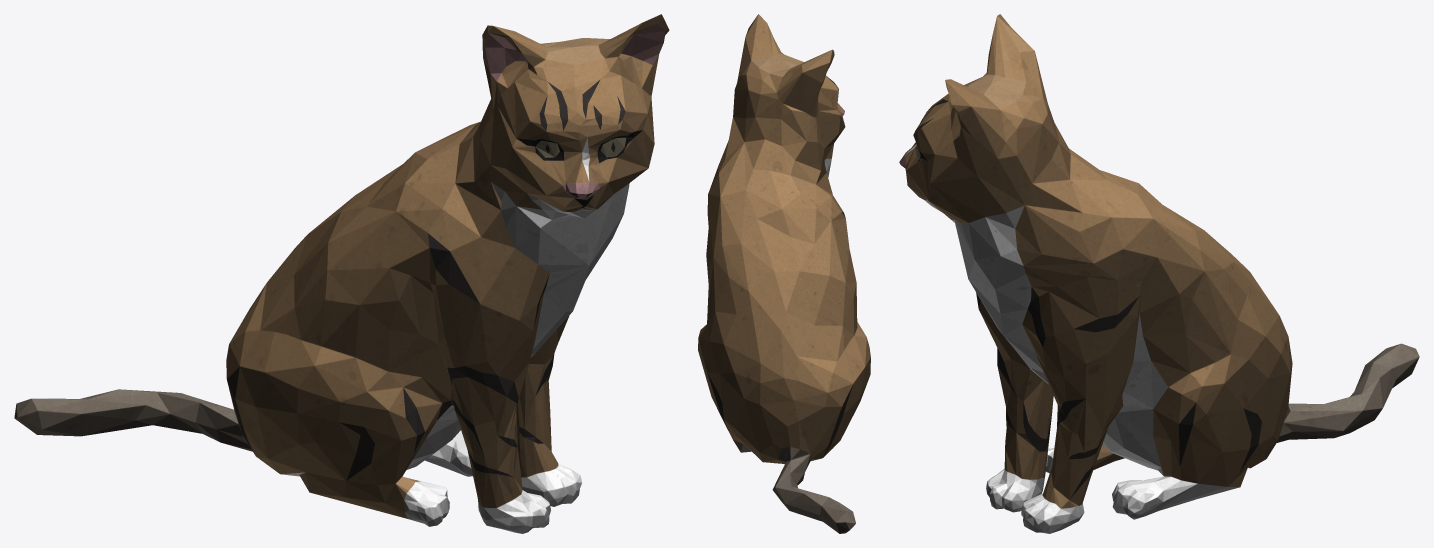
File: Cat - low poly.glb
3 renders of one model, left to right at view 1: azimuth 30°, elevation 25°; view 2: azimuth 150°, elevation 25°; view 3: azimuth 270°, elevation 25°, orthographic. The views are drawn at different scales.
Visible parts, largest first — view 1: cat.1; view 2: cat.1; view 3: cat.1.
Boxes of the visible parts, left/top/right/bottom form: cat.1: left=14, top=14, right=669, bottom=533; cat.1: left=698, top=14, right=870, bottom=533; cat.1: left=899, top=14, right=1419, bottom=533.
Bounding box in the file's own units: 0.0255 × 0.0306 × 0.0307.
1 material, 1 textured.
